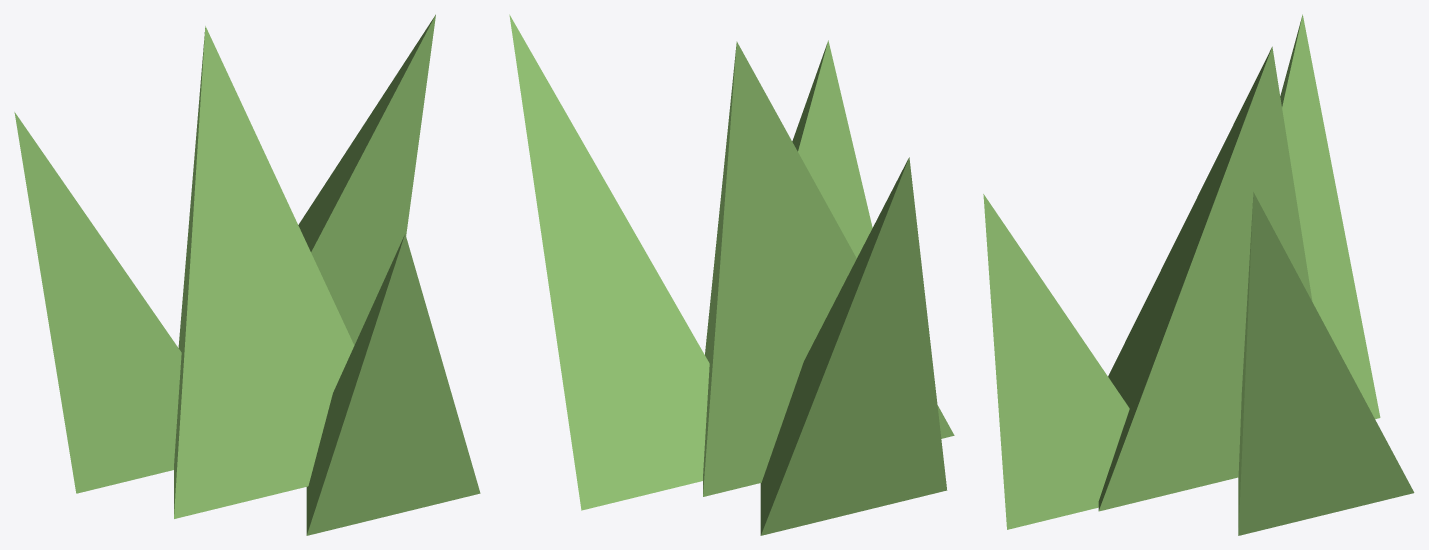
File: Grass2.fbx
3 renders of one model, left to right at view 1: azimuth 30°, elevation 25°; view 2: azimuth 150°, elevation 25°; view 3: azimuth 270°, elevation 25°, orthographic. The views are drawn at different scales.
Parts seen in each view (by area): view 1: Grass 2; view 2: Grass 2; view 3: Grass 2.
Part boxes in pixels (<box>): Grass 2: <box>14,14,480,535</box>; Grass 2: <box>509,14,954,535</box>; Grass 2: <box>983,14,1414,535</box>.
Size of the model in its own units: 207 by 203 by 192.
